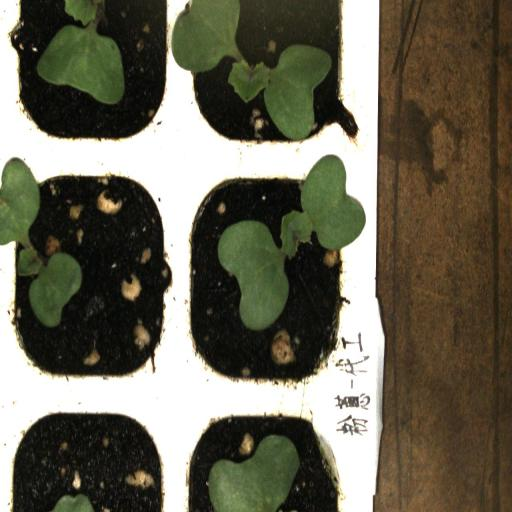Folha: (208, 434, 300, 512)
Germinacao: (178, 146, 354, 396), (4, 150, 178, 392), (5, 0, 181, 143), (182, 0, 350, 141)
